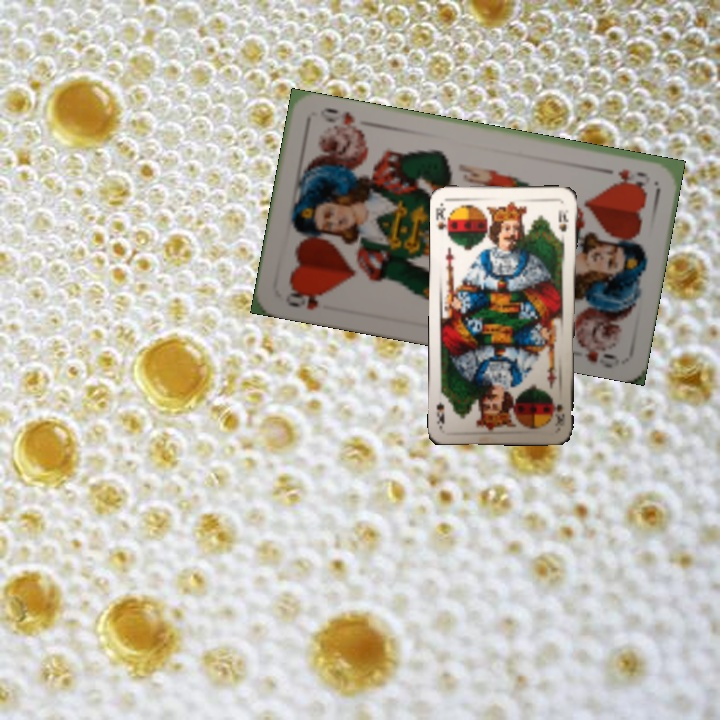HO: (596, 164, 653, 187), (282, 284, 326, 313)
SK: (433, 199, 452, 239), (552, 398, 567, 426)
